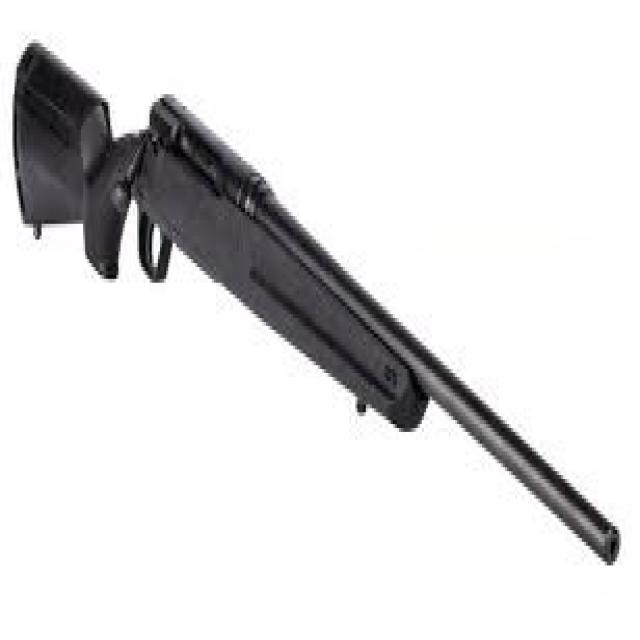rifle: (7, 23, 633, 586)
